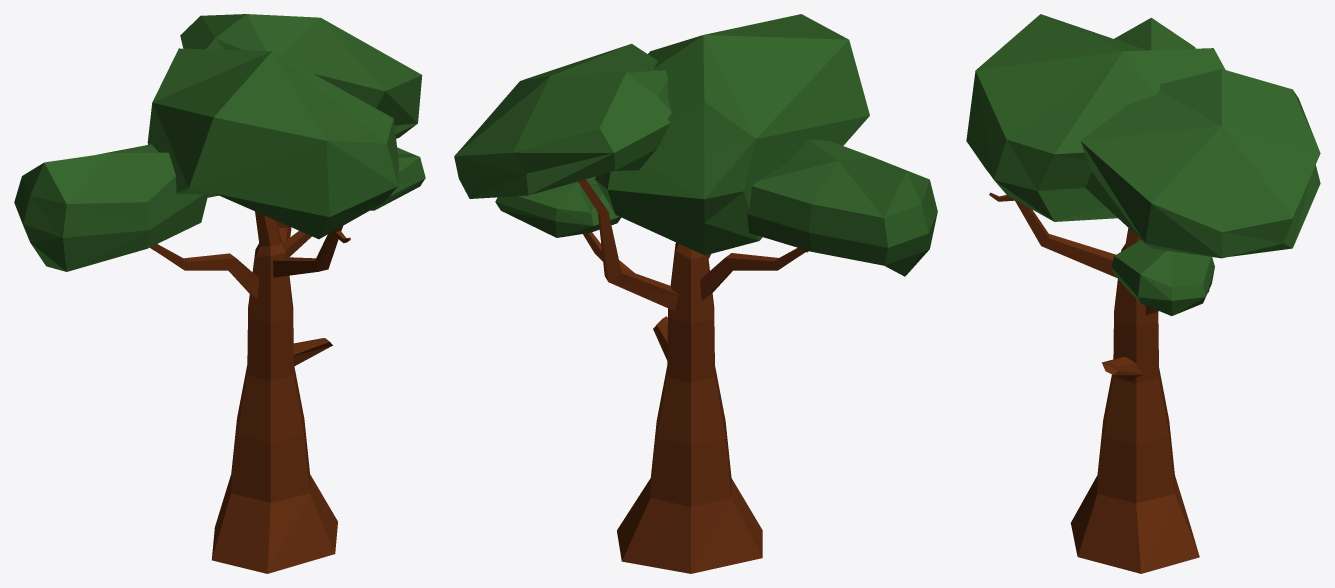
File: Tree1_high.glb
The picture shows the model from 3 angles, left to right: view 1: azimuth 30°, elevation 25°; view 2: azimuth 150°, elevation 25°; view 3: azimuth 270°, elevation 25°; orthographic projection. The views are drawn at different scales.
Visible parts, largest first — view 1: Tree_temp_climate_001; view 2: Tree_temp_climate_001; view 3: Tree_temp_climate_001.
Boxes of the visible parts, x1,y1,x2,y2 form: Tree_temp_climate_001: (14,14,425,573); Tree_temp_climate_001: (454,14,937,573); Tree_temp_climate_001: (966,14,1320,573).
Size of the model in its own units: 4.53 by 5.26 by 3.47.
Materials: 1 (1 with a texture image).
